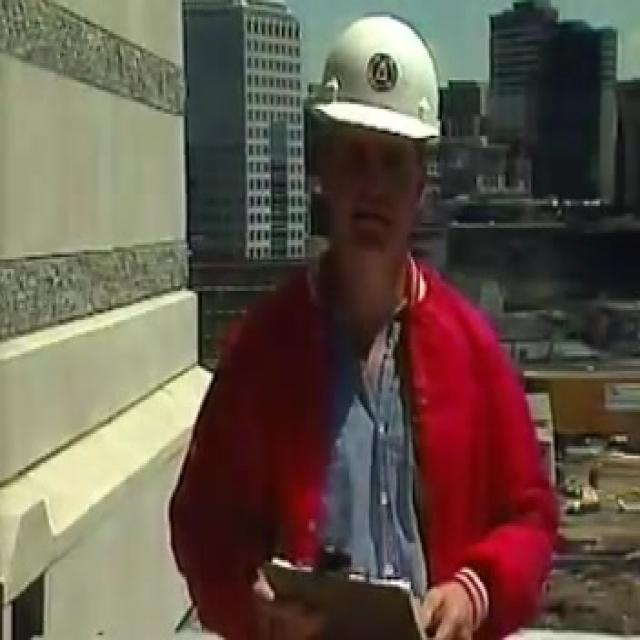Safety-Helmet: (298, 5, 458, 157)
